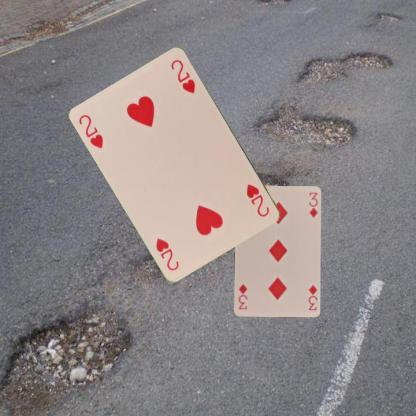2h: (76, 112, 105, 150), (244, 182, 271, 218)
3d: (306, 282, 318, 311)
